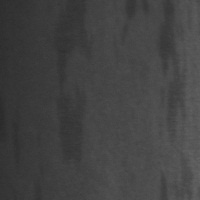inclusion: (56, 2, 95, 168), (160, 3, 187, 143), (6, 105, 27, 176), (116, 1, 140, 47), (155, 169, 172, 200)
